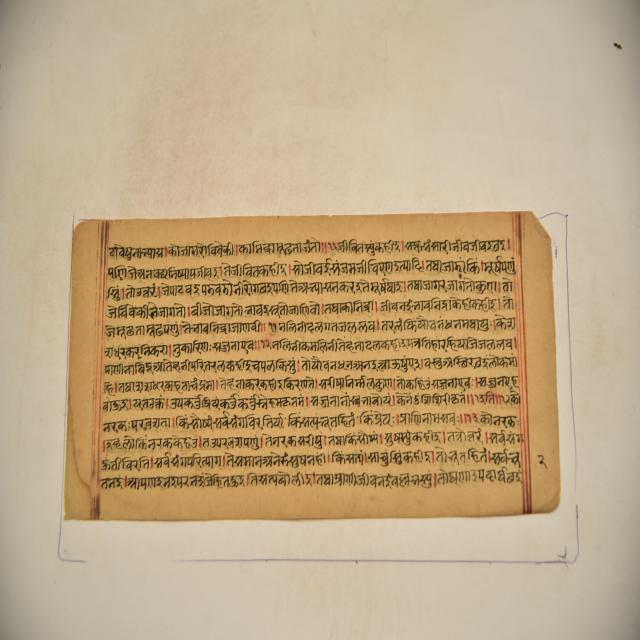text_paragraph: (62, 217, 557, 517)
